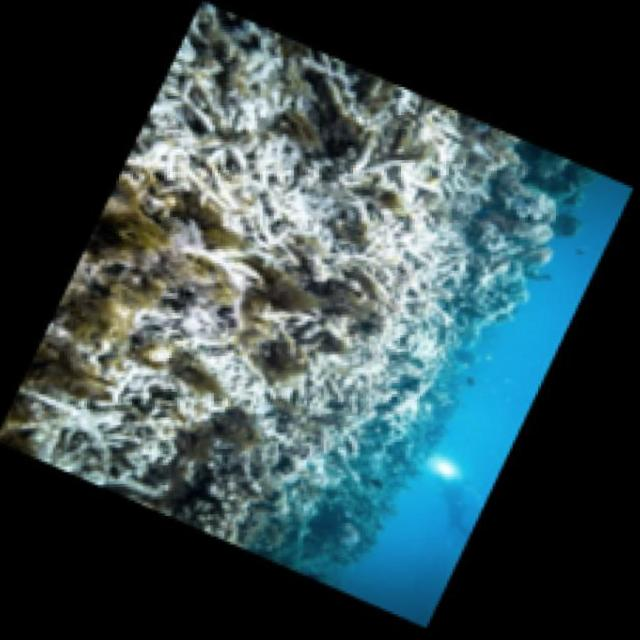Dead Coral: (262, 137, 554, 351), (96, 59, 371, 278), (44, 290, 289, 468), (254, 347, 421, 504)
